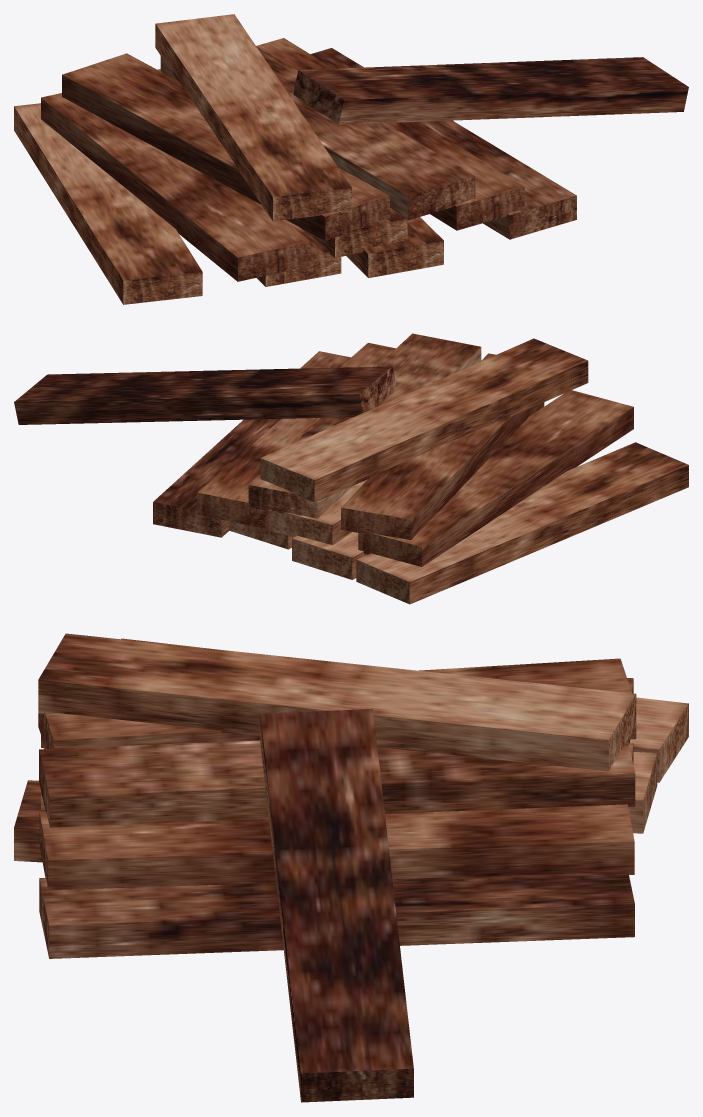
File: PilhaDeMadeira.fbx
The picture shows the model from 3 angles, top to bottom: view 1: azimuth 30°, elevation 25°; view 2: azimuth 150°, elevation 25°; view 3: azimuth 270°, elevation 25°; orthographic projection. The views are drawn at different scales.
Visible parts, largest first — view 1: PilhaMadeiras.001; view 2: PilhaMadeiras.001; view 3: PilhaMadeiras.001.
Boxes of the visible parts, <box> form: PilhaMadeiras.001: <box>14,14,688,304</box>; PilhaMadeiras.001: <box>14,333,688,604</box>; PilhaMadeiras.001: <box>14,633,688,1102</box>.
Size of the model in its own units: 484 by 81.05 by 326.
